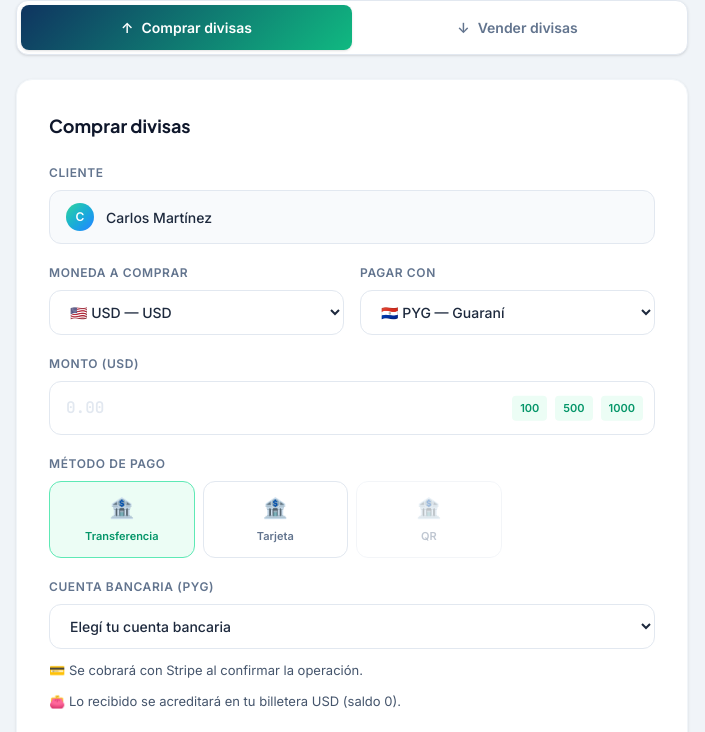
BuySell PI-71 (selects según monedas activas) › PI-73: la venta se debita de la billetera y no ofrece cuentas
The image size is (705, 732).
Check: the heading "Comprar divisas" is shown, box [49, 114, 191, 137]
Click the button "↓ Vender divisas" at (518, 28), box [352, 5, 683, 50]
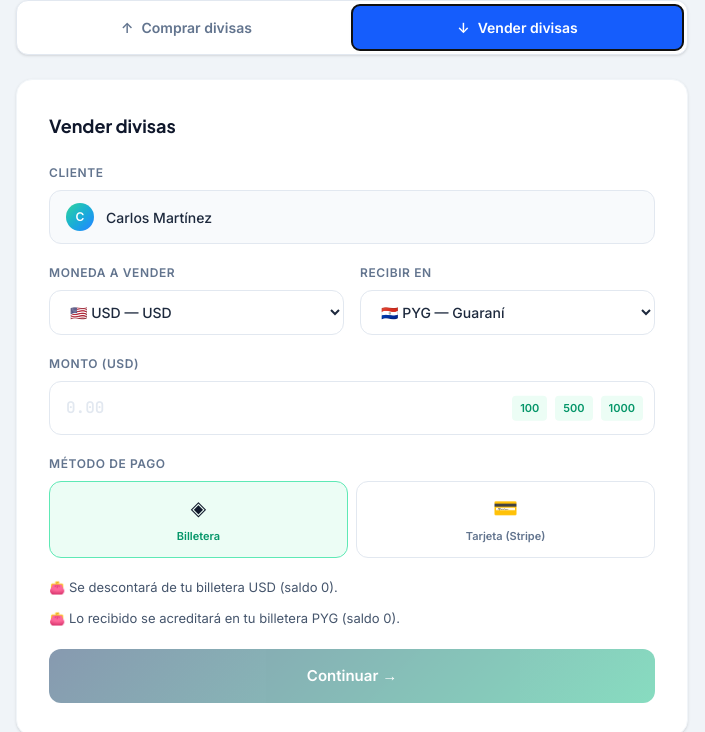
Check: the heading "Vender divisas" is shown, box [49, 114, 176, 137]
Check: the label labelled "Cuenta bancaria" is gone
Check: the text "👛 Se descontará de tu billetera USD (saldo 0)." is shown, box [49, 578, 338, 594]
